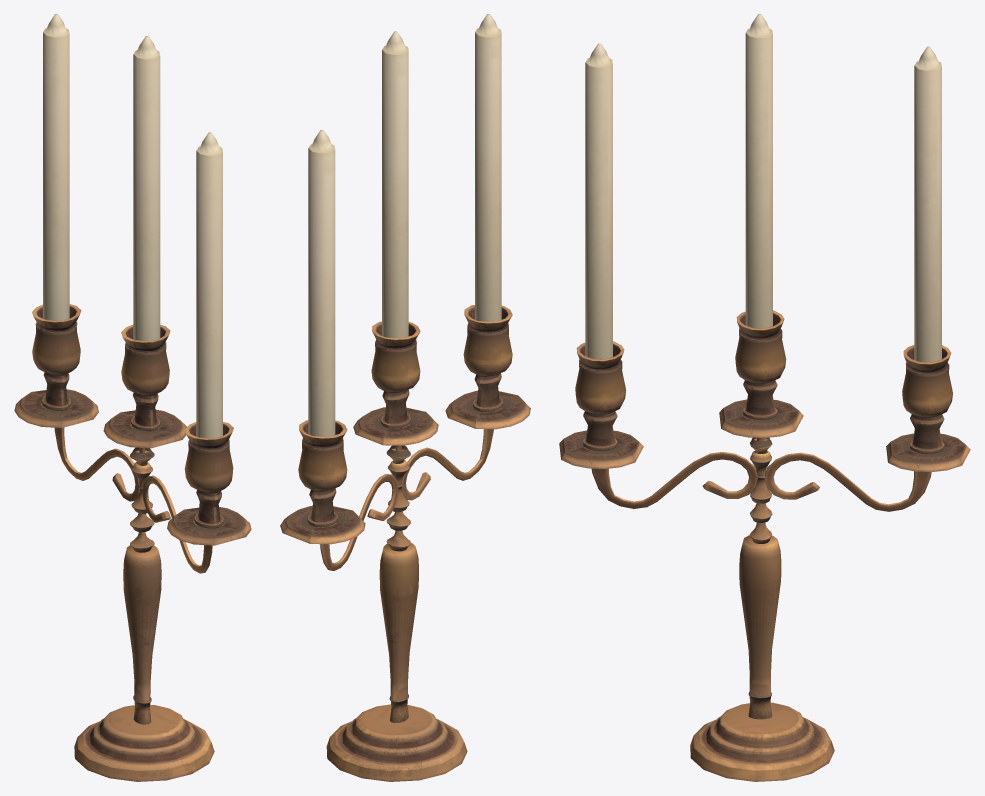
The model's file is SM_Candlesticktrihead.FBX.
The picture shows the model from 3 angles, left to right: view 1: azimuth 30°, elevation 25°; view 2: azimuth 150°, elevation 25°; view 3: azimuth 270°, elevation 25°; orthographic projection. The views are drawn at different scales.
Visible parts, largest first — view 1: SM_Candlesticktrihead; view 2: SM_Candlesticktrihead; view 3: SM_Candlesticktrihead.
Part boxes in pixels (box(x1,y1,x2,y2)): SM_Candlesticktrihead: box(14, 14, 251, 781); SM_Candlesticktrihead: box(280, 14, 530, 781); SM_Candlesticktrihead: box(559, 14, 970, 781).
Size of what is drawn, in the model's own units: 16.89 by 47.91 by 94.74.
